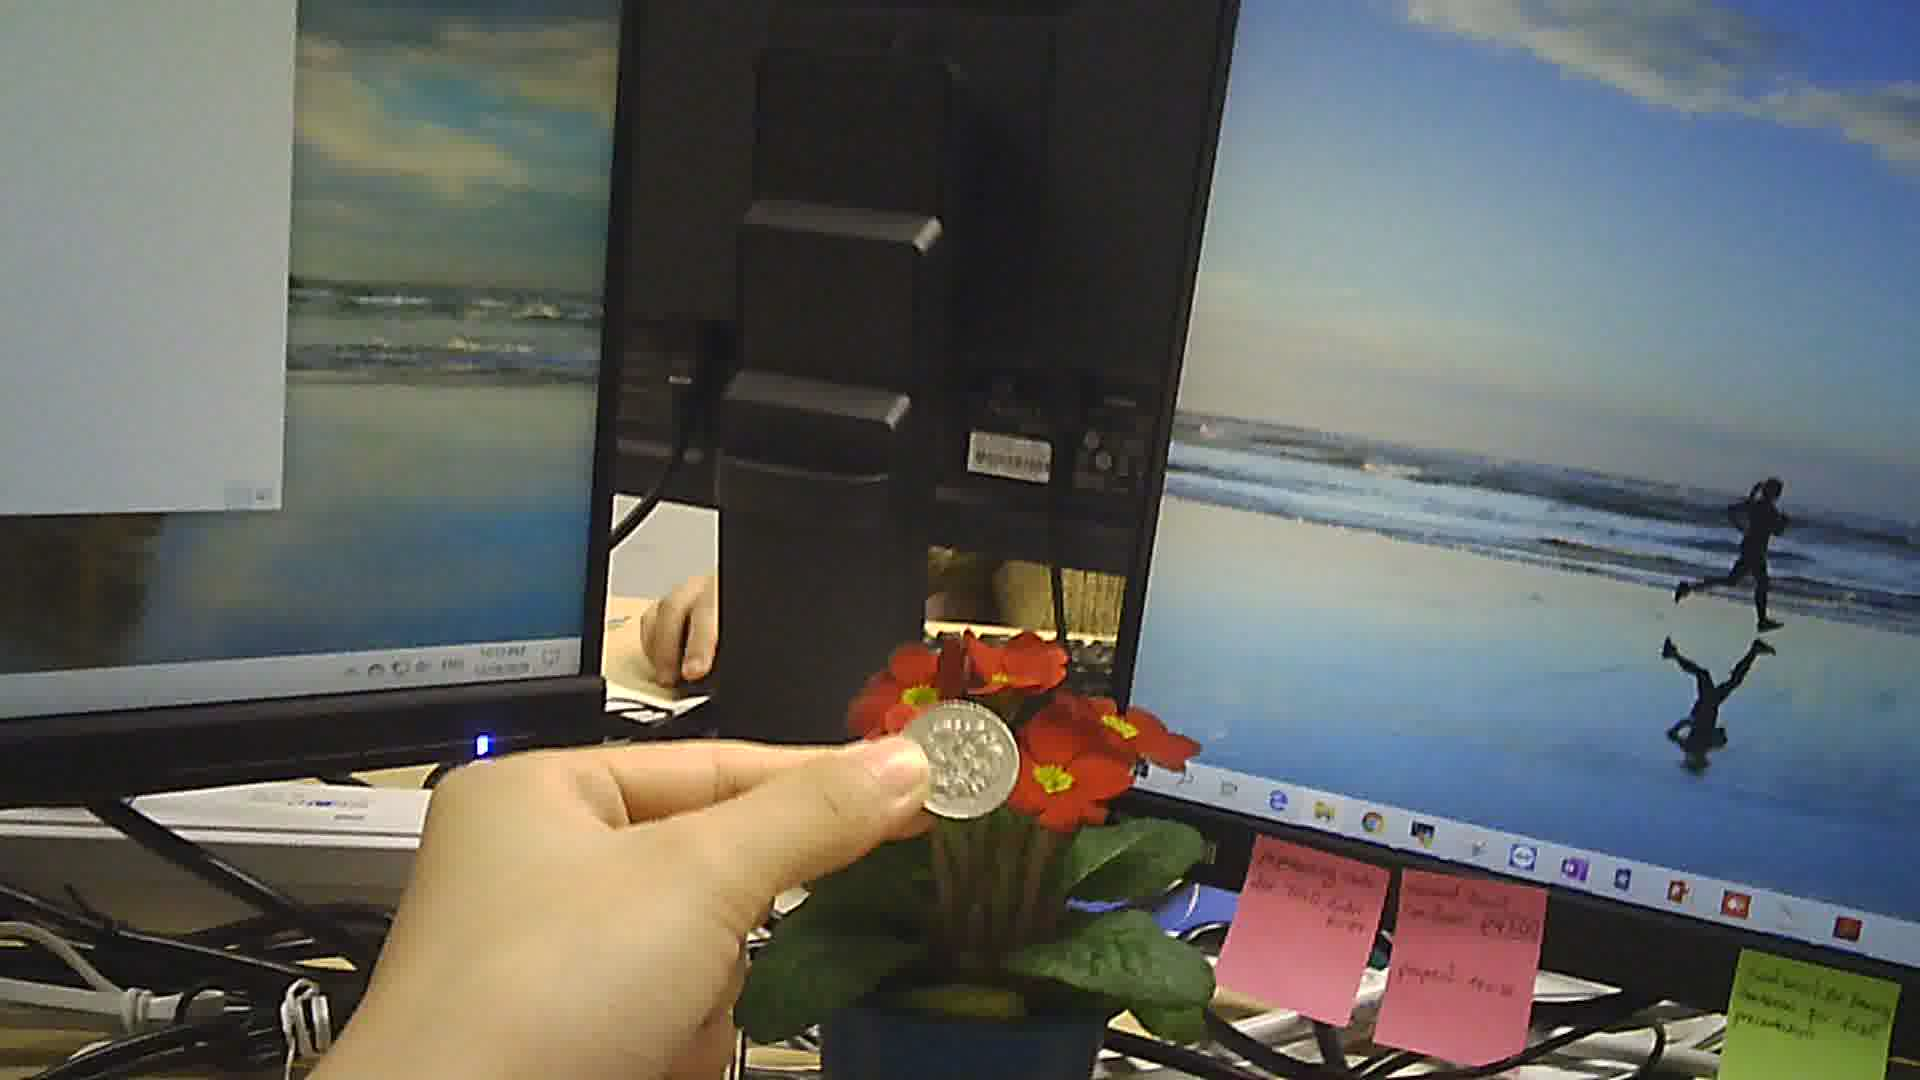100 Yen: (899, 702, 1025, 825)
